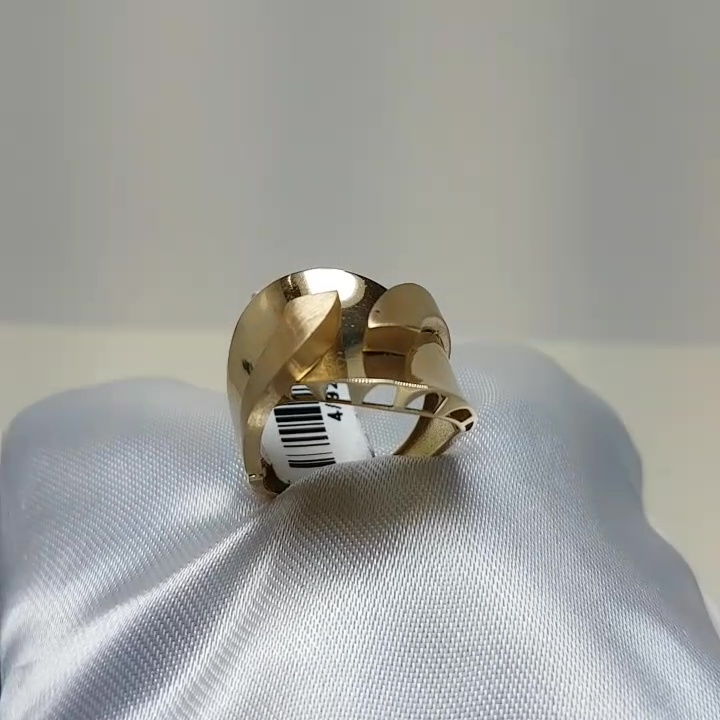Ring 4: (198, 247, 479, 490)
